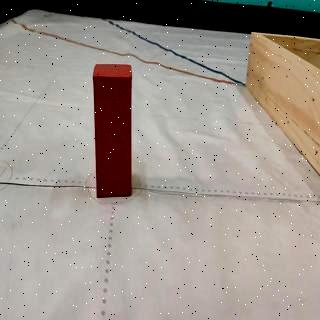redbox: (92, 64, 133, 196)
